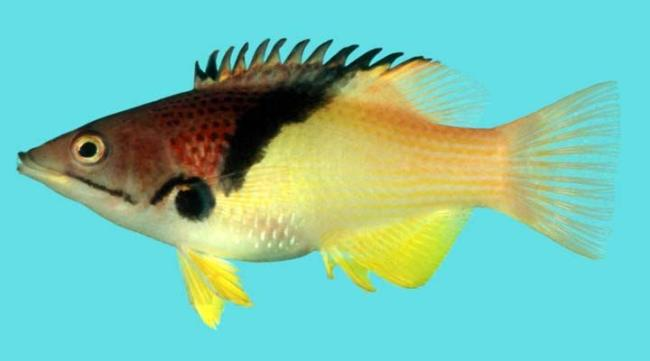fish: (17, 39, 620, 332)
